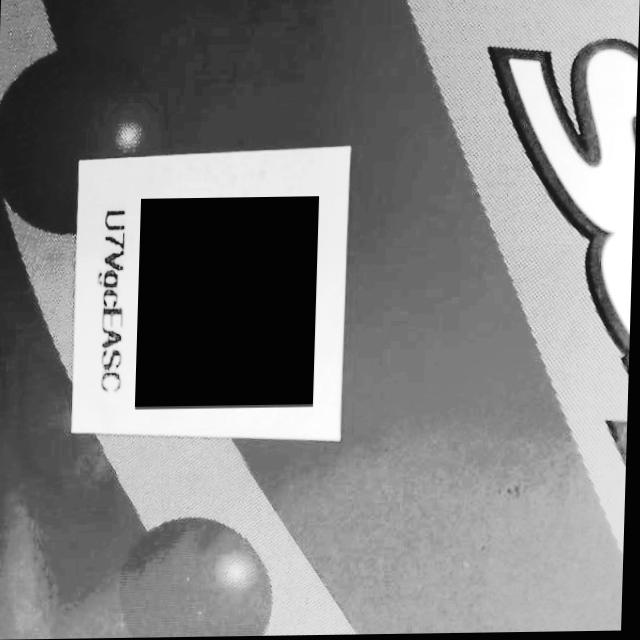qr_code: (136, 198, 319, 410)
